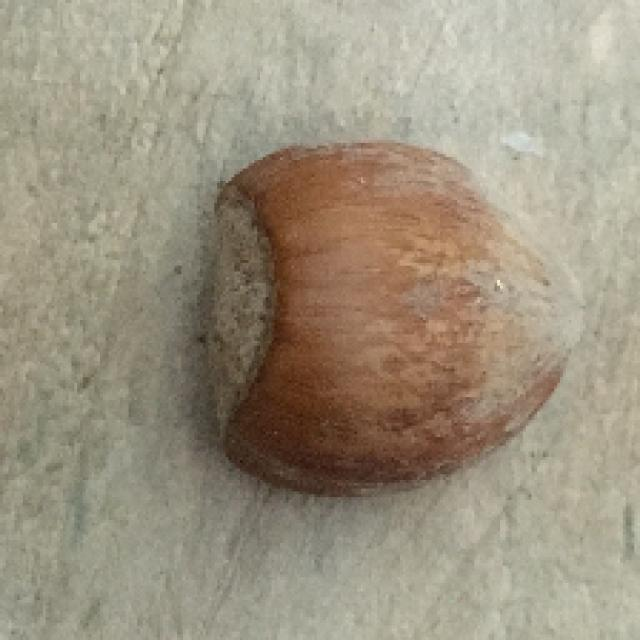qualityHazelnut: (189, 136, 600, 498)
